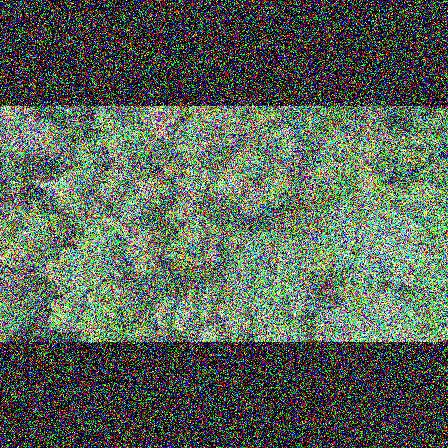Dead: (18, 141, 70, 172), (14, 106, 61, 134), (22, 132, 66, 156), (24, 178, 67, 199), (200, 245, 223, 266)
